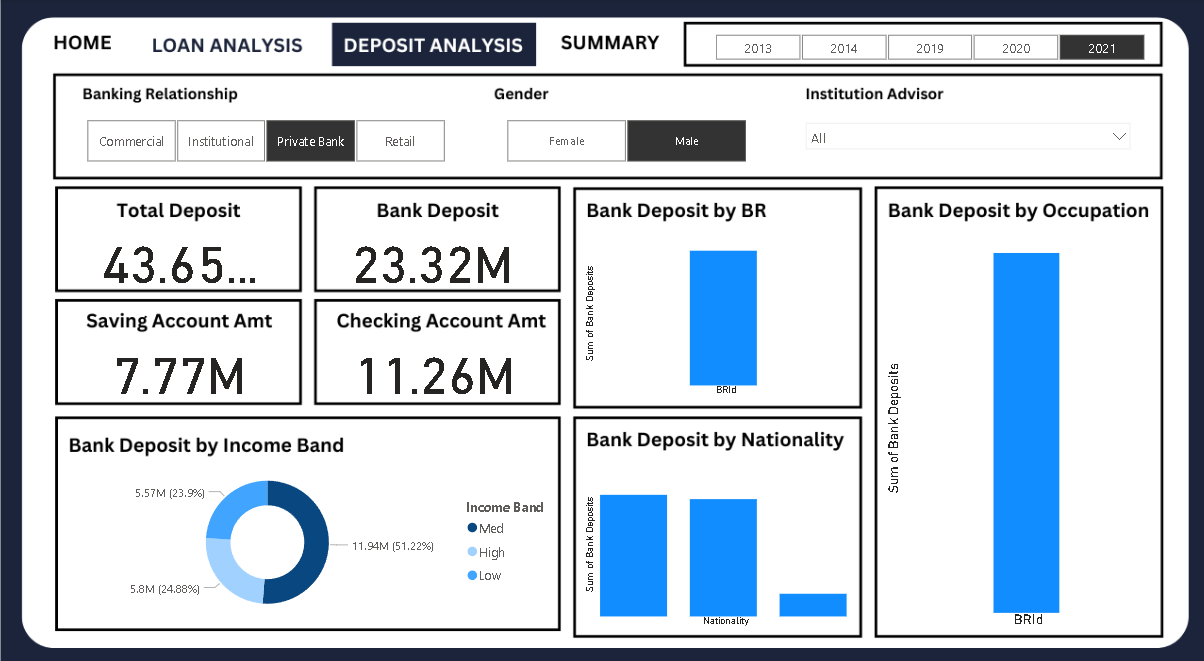

This screenshot's page, from the dashboard's own definition file:
{"tool":"powerbi","page":{"name":"Deposit Analysis","canvas":[1280,720],"ordinal":3},"visuals":[{"type":"slicer","fields":{"Values":["banking_case customer.Year of Joining"]},"box":[733.3,32.2,504.1,34.9],"z":0},{"type":"actionButton","box":[36.4,31.7,99.7,39.6],"z":1000},{"type":"actionButton","box":[348.2,31.7,221.6,39.6],"z":2000},{"type":"actionButton","box":[587.1,31.7,123.4,39.6],"z":3000},{"type":"card","fields":{"Values":["banking_case customer.Total Deposit"]},"box":[100.9,243.7,179.5,65.5],"z":4000},{"type":"card","fields":{"Values":["Sum(banking_case customer.Bank Deposits)"]},"box":[369.5,243.7,179.5,65.5],"z":5000},{"type":"card","fields":{"Values":["Sum(banking_case customer.Saving Accounts)"]},"box":[100.9,360.4,179.5,65.5],"z":6000},{"type":"card","fields":{"Values":["Sum(banking_case customer.Checking Accounts)"]},"box":[370.8,360.4,179.5,65.5],"z":7000},{"type":"donutChart","fields":{"Category":["banking_case customer.Income Band"],"Y":["Sum(banking_case customer.Bank Deposits)"]},"box":[66.8,488.8,530.7,176.9],"z":8000},{"type":"clusteredColumnChart","fields":{"Category":["banking_case customer.BRId"],"Y":["Sum(banking_case customer.Bank Deposits)"]},"box":[613.3,243.7,293.5,182.1],"z":9000},{"type":"clusteredColumnChart","fields":{"Category":["banking_case customer.Nationality"],"Y":["Sum(banking_case customer.Bank Deposits)"]},"box":[613.3,488.8,293.5,182.1],"z":10000},{"type":"slicer","fields":{"Values":["banking_case customer.BRId"]},"box":[66.8,123.2,428.5,57.7],"z":11000},{"type":"slicer","fields":{"Values":["banking_case customer.GenderId"]},"box":[512.4,123.2,302.7,57.7],"z":12000},{"type":"slicer","fields":{"Values":["banking_case customer.IAId"]},"box":[843.9,123.2,364.3,57.7],"z":13000},{"type":"clusteredColumnChart","fields":{"Category":["banking_case customer.BRId"],"Y":["Sum(banking_case customer.Bank Deposits)"]},"box":[933.7,245.3,292.8,425.7],"z":14000},{"type":"actionButton","box":[136.3,27.5,196.6,40.6],"z":15000}]}

Visuals, with their boxes in screenshot pixels (x1, y1, x2, y2), scaled from the page's 1280x720 canvas onto the 1204x661 screenshot:
slicer - banking_case customer.Year of Joining: x1=690 y1=30 x2=1164 y2=62
actionButton: x1=34 y1=29 x2=128 y2=65
actionButton: x1=328 y1=29 x2=536 y2=65
actionButton: x1=552 y1=29 x2=668 y2=65
card - banking_case customer.Total Deposit: x1=95 y1=224 x2=264 y2=284
card - Sum(banking_case customer.Bank Deposits): x1=348 y1=224 x2=516 y2=284
card - Sum(banking_case customer.Saving Accounts): x1=95 y1=331 x2=264 y2=391
card - Sum(banking_case customer.Checking Accounts): x1=349 y1=331 x2=518 y2=391
donutChart - banking_case customer.Income Band x Sum(banking_case customer.Bank Deposits): x1=63 y1=449 x2=562 y2=611
clusteredColumnChart - banking_case customer.BRId x Sum(banking_case customer.Bank Deposits): x1=577 y1=224 x2=853 y2=391
clusteredColumnChart - banking_case customer.Nationality x Sum(banking_case customer.Bank Deposits): x1=577 y1=449 x2=853 y2=616
slicer - banking_case customer.BRId: x1=63 y1=113 x2=466 y2=166
slicer - banking_case customer.GenderId: x1=482 y1=113 x2=767 y2=166
slicer - banking_case customer.IAId: x1=794 y1=113 x2=1136 y2=166
clusteredColumnChart - banking_case customer.BRId x Sum(banking_case customer.Bank Deposits): x1=878 y1=225 x2=1154 y2=616
actionButton: x1=128 y1=25 x2=313 y2=63
